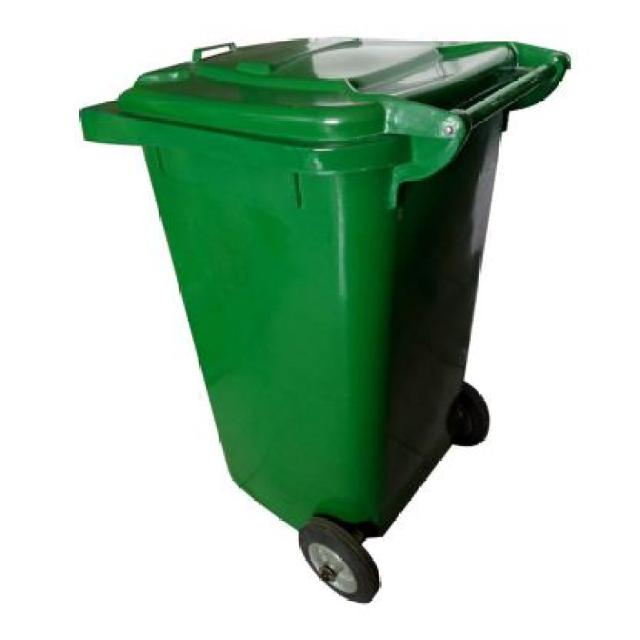garbage container: (65, 24, 582, 608)
